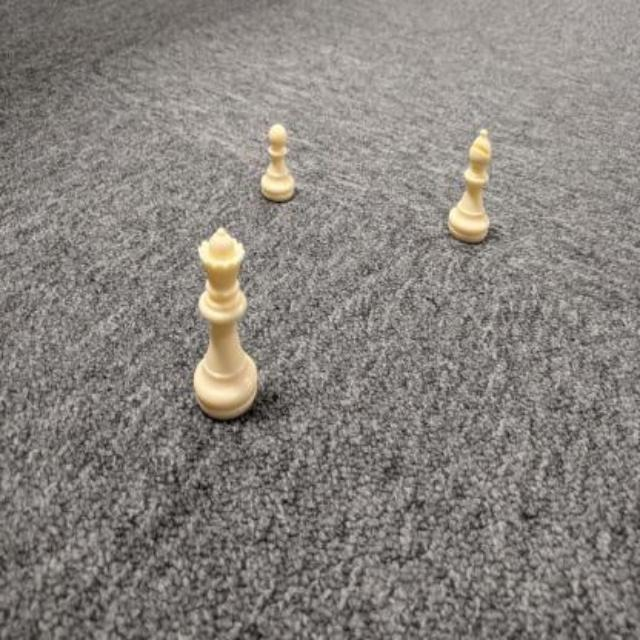white-bishop: (447, 128, 497, 248)
white-pawn: (258, 118, 298, 205)
white-queen: (192, 223, 264, 426)
